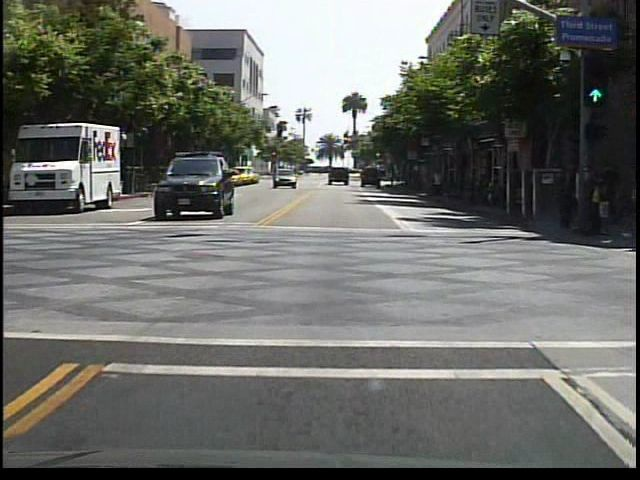person: (551, 159, 576, 236)
